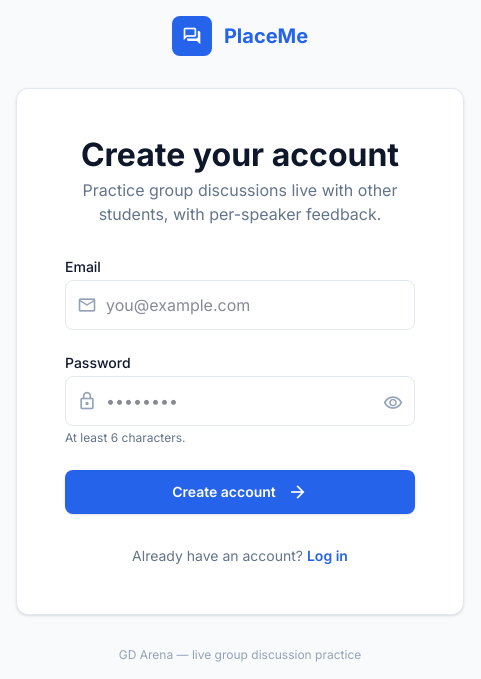
Scenario: SignupPage busy state › shows a spinner and busy label while creating the account, hiding the idle arrow icon
This screenshot has width=481, height=679.
Type "student@test.edu" into the field labelled "Email" at (240, 305), box [65,280,415,330]
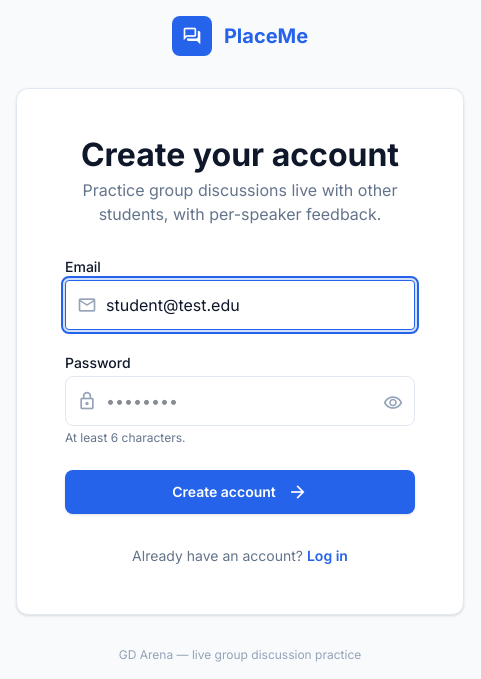
Type "password123" into the password field labelled "Password" at (240, 401), box [65,376,415,426]
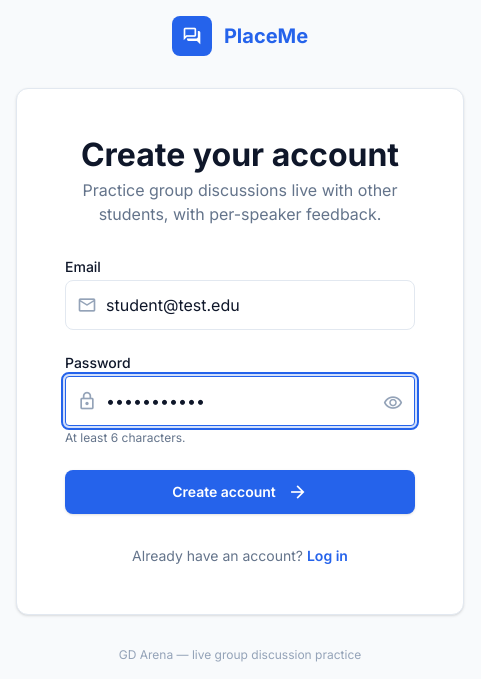
Click the button "Create account" at (240, 492), box [65,470,415,514]
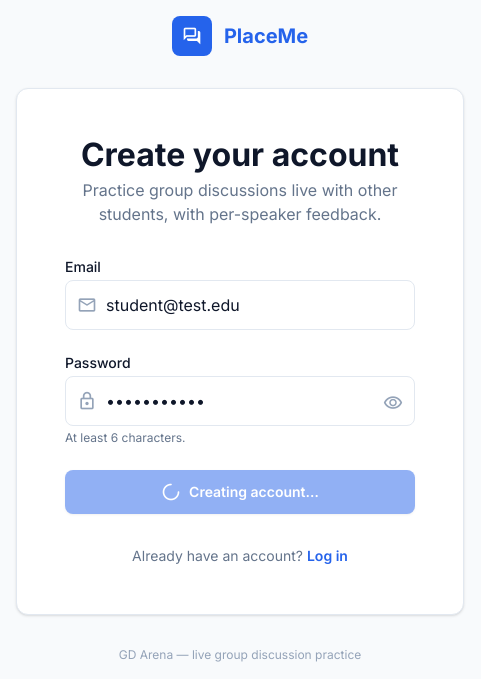
Expected: the 5th text "progress_activity" is shown, [161,480,181,504]
Expected: the text "Creating account…" is shown, [161,482,319,502]
